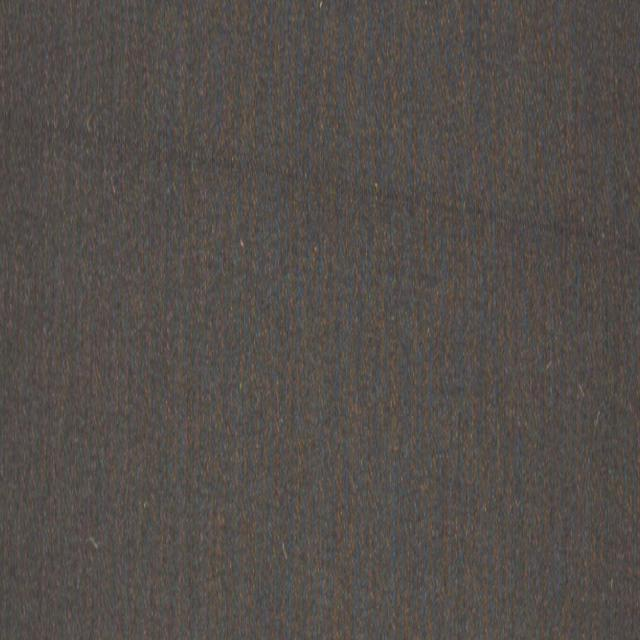Line: (0, 92, 640, 270)
